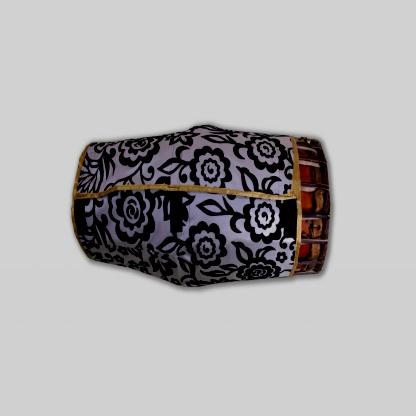Mridangam: (56, 121, 343, 298)
